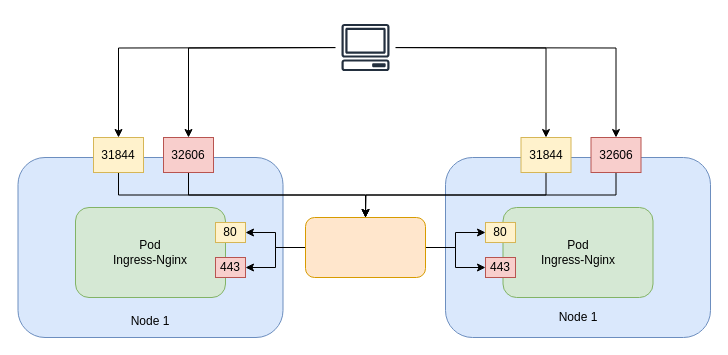
The diagram is 728 pixels wide and 355 high, and some of its shapes have lost their labels. The centre of each missing label's shape, as x and y in pixels:
"Client" belongs at point (365, 47).
"Service" belongs at point (365, 247).
